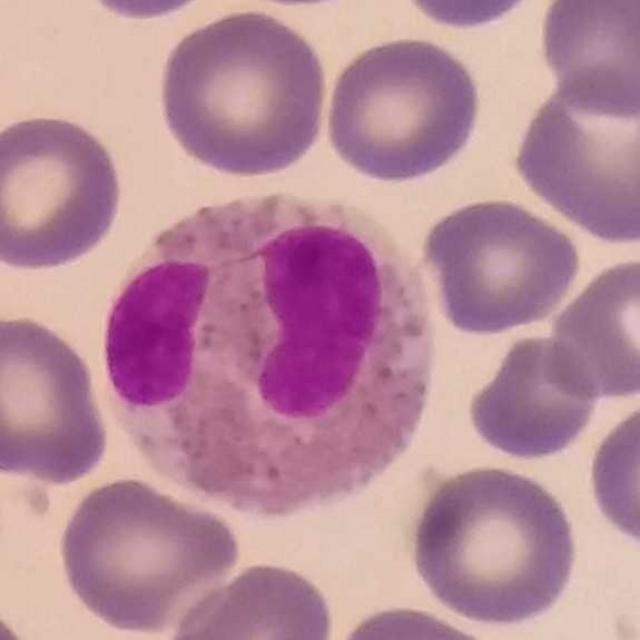eosino: (107, 188, 436, 518)
